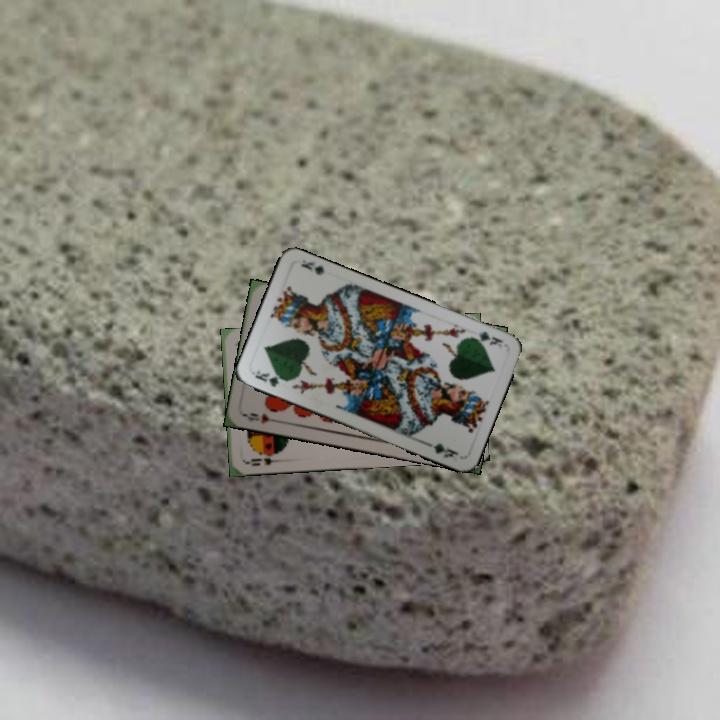GK: (466, 327, 505, 352), (249, 366, 282, 390)
H9: (241, 409, 281, 427)
SO: (243, 454, 284, 469)
